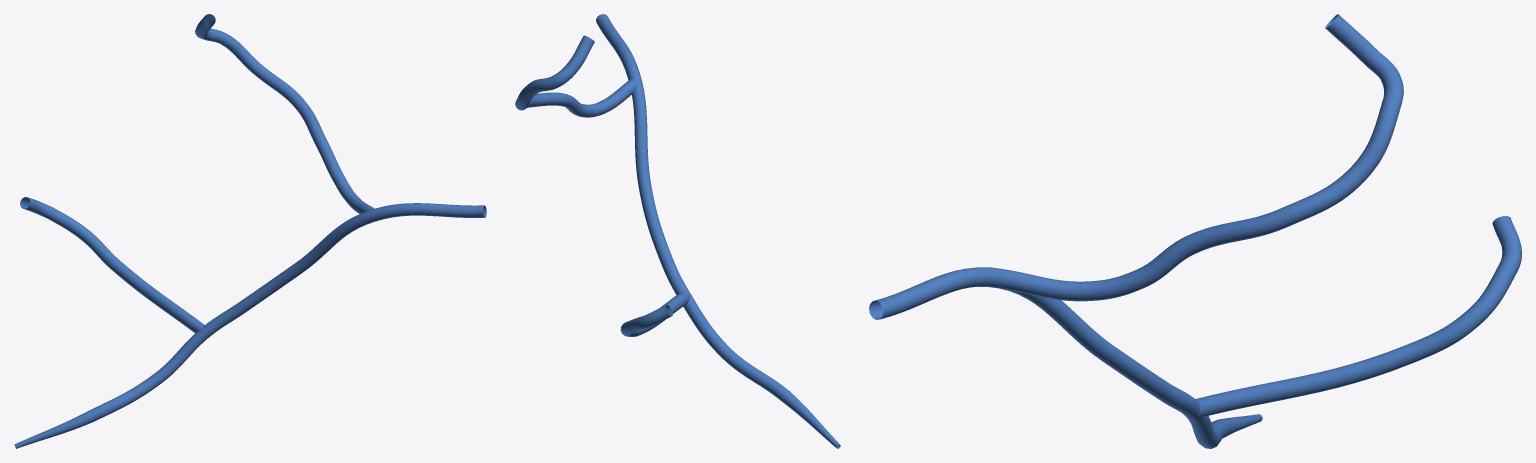
3 renders of one model, left to right at view 1: azimuth 30°, elevation 25°; view 2: azimuth 150°, elevation 25°; view 3: azimuth 270°, elevation 25°, orthographic. The views are drawn at different scales.
Parts seen in each view (by area): view 1: 左侧下唇静脉; view 2: 左侧下唇静脉; view 3: 左侧下唇静脉.
Boxes of the visible parts, bbox=[...] form: 左侧下唇静脉: bbox=[14, 14, 486, 448]; 左侧下唇静脉: bbox=[515, 14, 840, 448]; 左侧下唇静脉: bbox=[869, 14, 1521, 448].
Size of the model in its own units: 0.048 by 0.0471 by 0.0485.
